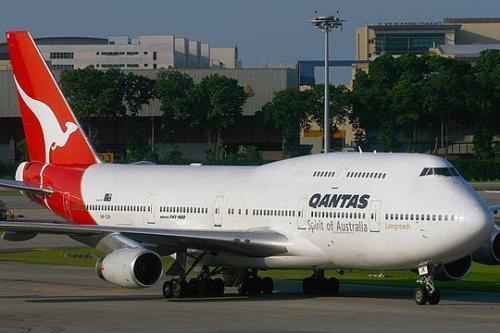airplane: (2, 28, 494, 294)
